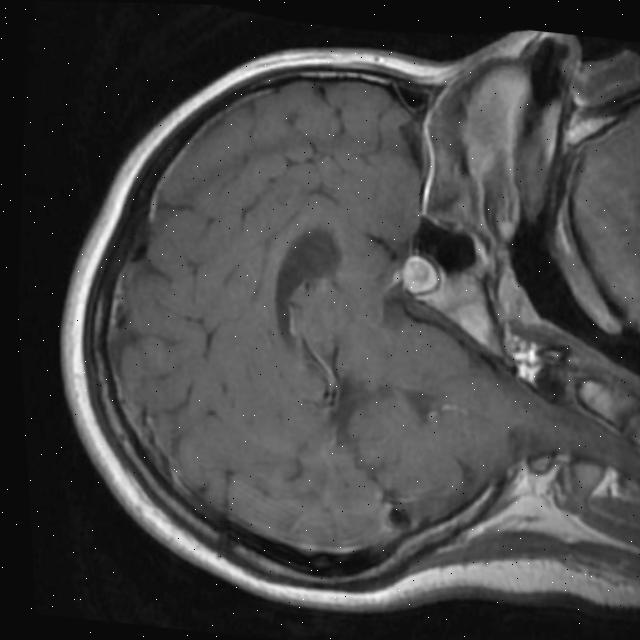Pituitary: (399, 252, 440, 295)
